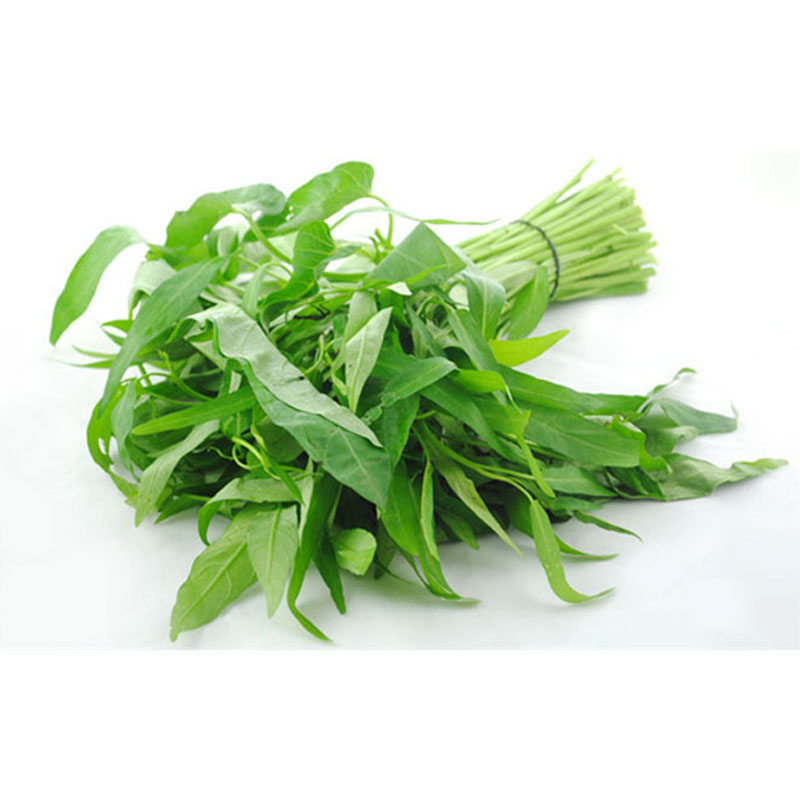Kangkung: (36, 127, 800, 661)
